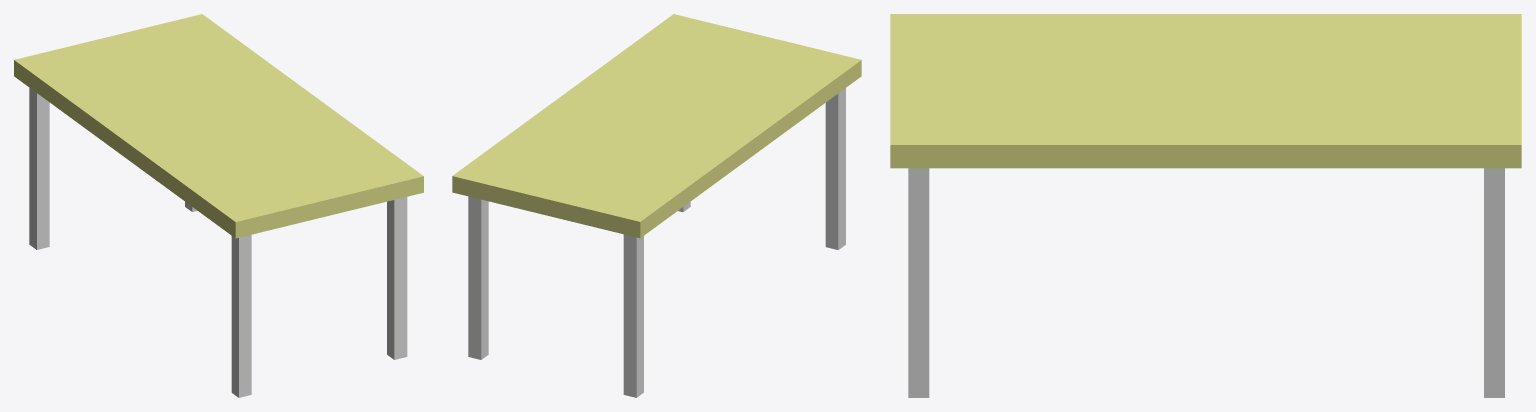
File: table.fbx
3 views of the same model, side by side, from view 1: azimuth 30°, elevation 25°; view 2: azimuth 150°, elevation 25°; view 3: azimuth 270°, elevation 25° (orthographic). The views are drawn at different scales.
Visible parts, largest first — view 1: Cube, Cube.001, Cube.002, Cube.003; view 2: Cube, Cube.003, Cube.004, Cube.001; view 3: Cube, Cube.002, Cube.004.
Boxes of the visible parts, x1,y1,x2,y2 form: Cube: (14,14,423,238); Cube.001: (231,234,251,397); Cube.002: (387,197,407,359); Cube.003: (29,88,49,249); Cube: (452,14,861,238); Cube.003: (623,234,643,397); Cube.004: (468,196,488,359); Cube.001: (825,88,845,249); Cube: (890,14,1521,168); Cube.002: (908,168,929,397); Cube.004: (1484,168,1504,397).
Bounding box in the file's own units: 200 × 186 × 408.
